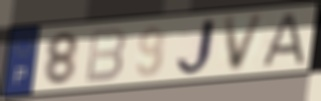8: (43, 30, 82, 87)
9: (135, 24, 170, 79)
A: (256, 11, 308, 69)
B: (83, 26, 128, 85)
J: (173, 16, 219, 78)
V: (222, 11, 268, 75)
